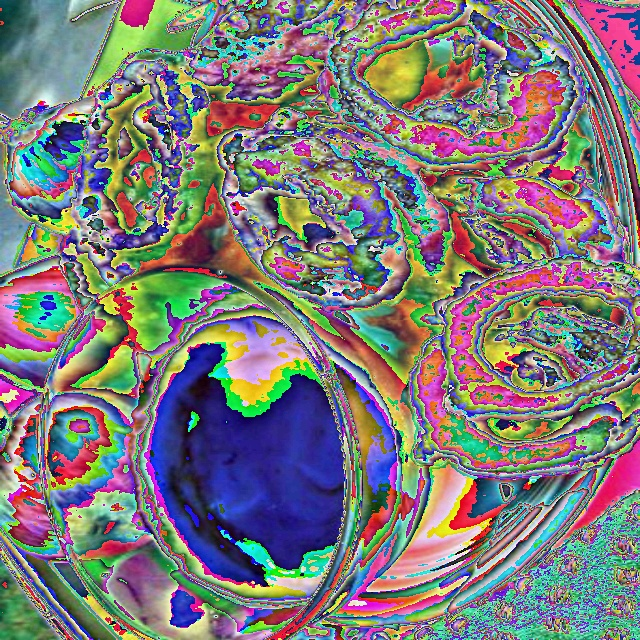background: (0, 0, 640, 609)
